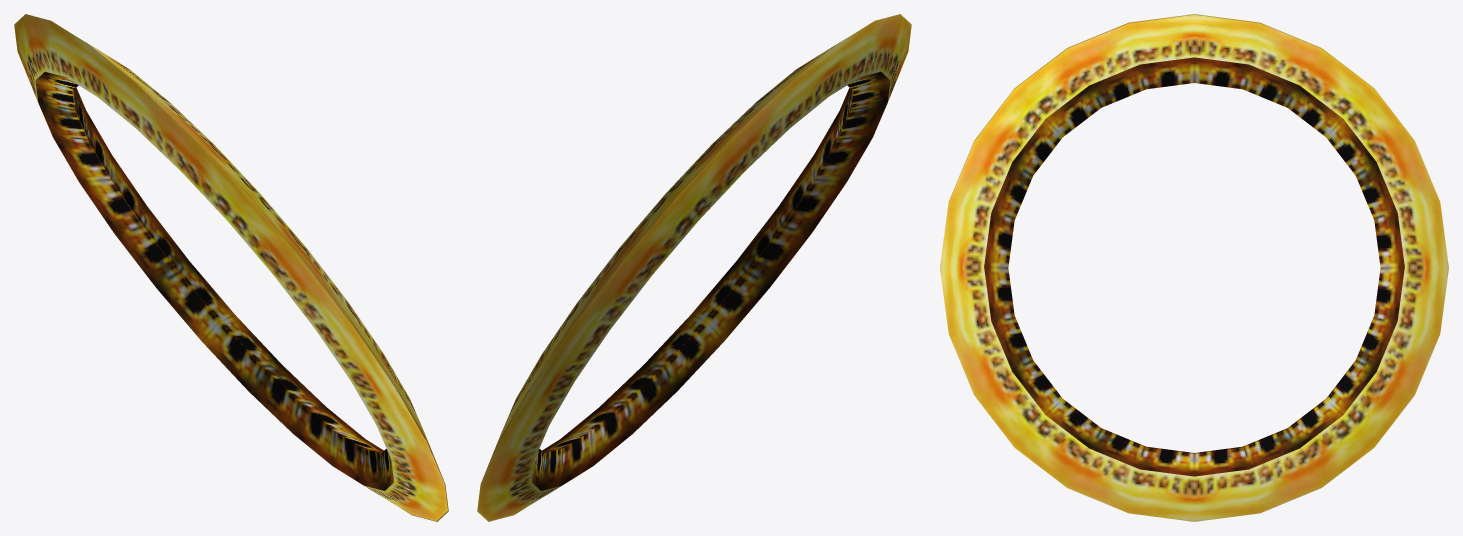
File: icon0.ico.obj
The picture shows the model from 3 angles, left to right: view 1: azimuth 30°, elevation 25°; view 2: azimuth 150°, elevation 25°; view 3: azimuth 270°, elevation 25°; orthographic projection. The views are drawn at different scales.
Bounding box in the file's own units: 1.87 × 3.23 × 3.72.
Materials: 1 (1 with a texture image).
